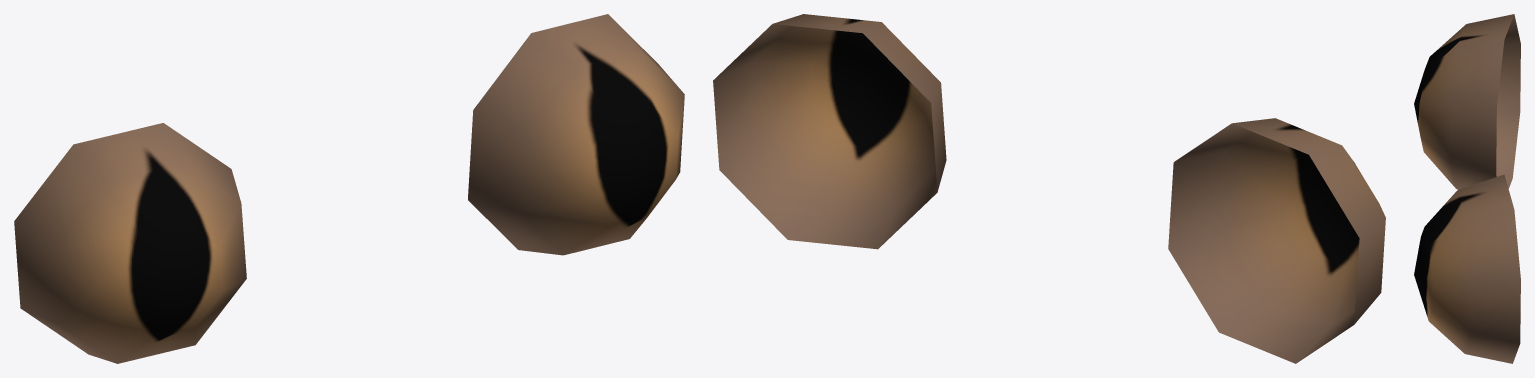
The model's file is eyes.obj.
The picture shows the model from 3 angles, left to right: view 1: azimuth 30°, elevation 25°; view 2: azimuth 150°, elevation 25°; view 3: azimuth 270°, elevation 25°; orthographic projection. The views are drawn at different scales.
Parts seen in each view (by area): view 1: KittyA:KittyA:KittyA:KittyA:pSphere5; view 2: KittyA:KittyA:KittyA:KittyA:pSphere5; view 3: KittyA:KittyA:KittyA:KittyA:pSphere5.
Part boxes in pixels (bbox=[...]): KittyA:KittyA:KittyA:KittyA:pSphere5: bbox=[14, 14, 684, 363]; KittyA:KittyA:KittyA:KittyA:pSphere5: bbox=[713, 14, 1385, 363]; KittyA:KittyA:KittyA:KittyA:pSphere5: bbox=[1414, 14, 1520, 363].
Size of the model in its own units: 3.64 by 1.18 by 0.6979.
1 material, 1 textured.
